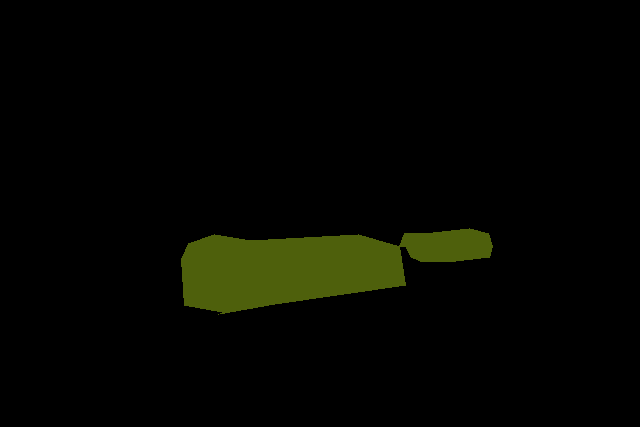Train: (181, 234, 406, 314), (399, 228, 493, 262)
